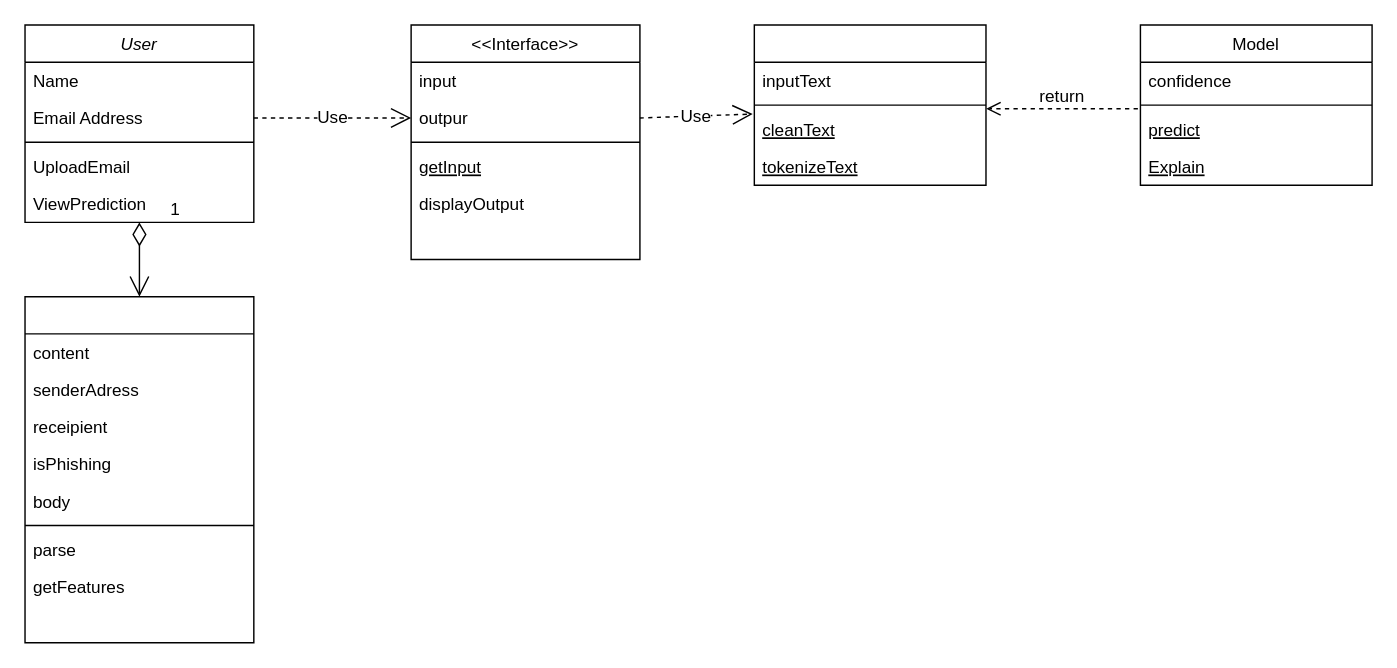
The diagram is 1397 pixels wide and 668 high, and some of its shapes have lost their labels. Each missing label, with the box of its shape:
Email: (24, 295, 254, 643)
Preprocessor: (753, 24, 986, 185)
